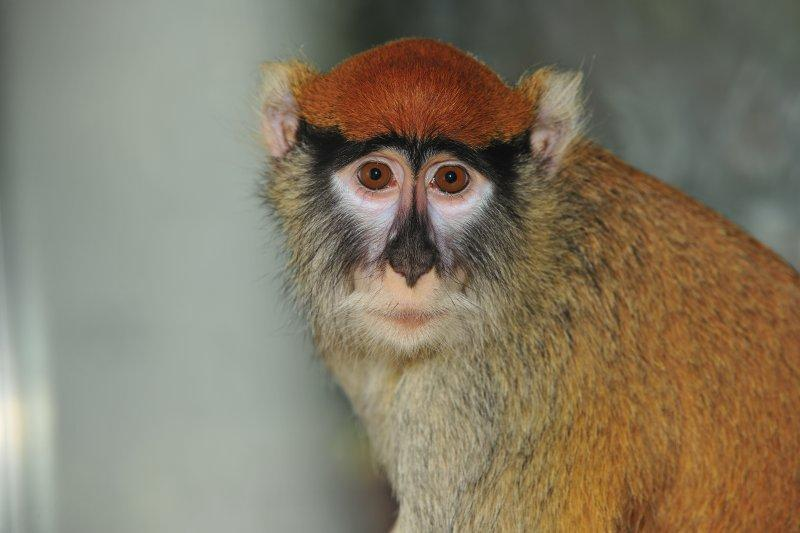monkey: (254, 37, 800, 533)
